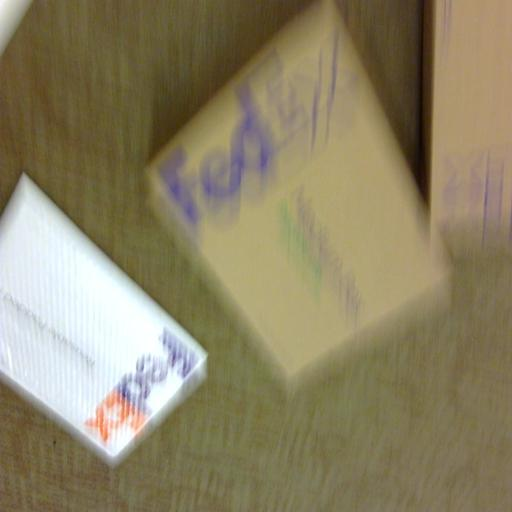Amazon: (0, 193, 196, 454)
